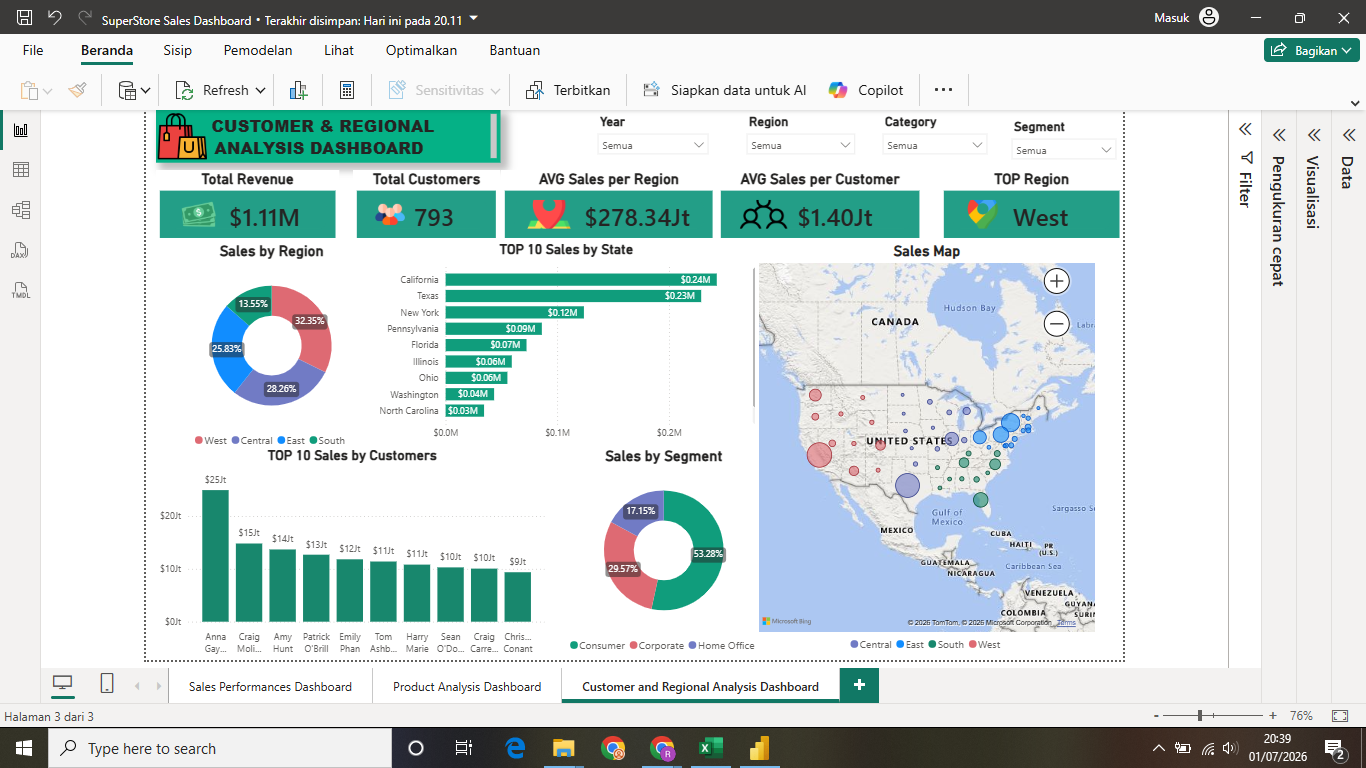

This screenshot's page, from the dashboard's own definition file:
{"tool":"powerbi","page":{"name":"Customer and Regional Analysis Dashboard","canvas":[1280,720],"ordinal":2},"visuals":[{"type":"textbox","box":[12.9,0,451.4,68.6],"z":0},{"type":"image","box":[13.4,0,68.9,68.9],"z":1000},{"type":"cardVisual","title":"Total Customers","fields":{"Data":["train2.Total Customers"]},"box":[271.4,78.6,192.9,94.3],"z":2000},{"type":"cardVisual","title":"Total Revenue","fields":{"Data":["train2.Total Sales"]},"box":[12.9,78.6,240,94.3],"z":3000},{"type":"cardVisual","title":"AVG Sales per Region","fields":{"Data":["train2.AVG Sales by Region"]},"box":[464.3,78.6,282.9,94.3],"z":4000},{"type":"cardVisual","title":"AVG Sales per Customer","fields":{"Data":["train2.AVG Sales Per Customer"]},"box":[747.1,78.6,270,94.3],"z":5000},{"type":"cardVisual","title":"TOP Region","fields":{"Data":["train2.TOP Region"]},"box":[1040,78.6,240,94.3],"z":6000},{"type":"slicer","fields":{"Values":["train2.Order Date.Variasi.Hierarki Tanggal.Tahun"]},"box":[580.9,0,165.5,72.6],"z":7000},{"type":"slicer","fields":{"Values":["train2.Region"]},"box":[776.8,0,162.1,72.6],"z":8000},{"type":"slicer","fields":{"Values":["train2.Segment"]},"box":[1123,6.8,157,72.6],"z":9000},{"type":"slicer","fields":{"Values":["train2.Category"]},"box":[954.1,0,157,72.6],"z":10000},{"type":"donutChart","title":"Sales by Region","fields":{"Category":["train2.Region"],"Y":["Sum(train2.Sales)"]},"box":[12.9,172.9,302.9,278.6],"z":11000},{"type":"pieChart","title":"Sales by Segment","fields":{"Category":["train2.Segment"],"Y":["Sum(train2.Sales)"]},"box":[526.6,440.6,303.1,278.1],"z":12000},{"type":"barChart","title":"TOP 10 Sales by State","fields":{"Category":["train2.State"],"Y":["Sum(train2.Sales)"]},"box":[293.8,171.9,514.1,268.8],"z":13000},{"type":"columnChart","title":"TOP 10 Sales by Customers","fields":{"Category":["train2.Customer Name"],"Y":["Sum(train2.Sales)"]},"box":[12.5,440.6,514.1,279.7],"z":14000},{"type":"map","title":"Sales Map","fields":{"Category":["train2.State"],"Size":["Sum(train2.Sales)"],"Series":["train2.Region"]},"box":[796.7,173.3,450,545],"z":15000}]}

Visuals, with their boxes on the page's 1280x720 design canvas (x1, y1, x2, y2). These are canvas units, not pixel positions in the 1366x768 screenshot, which may show the page scaled, cropped or inside an application window:
textbox: 13/0/464/69
image: 13/0/82/69
"Total Customers" cardVisual: 271/79/464/173
"Total Revenue" cardVisual: 13/79/253/173
"AVG Sales per Region" cardVisual: 464/79/747/173
"AVG Sales per Customer" cardVisual: 747/79/1017/173
"TOP Region" cardVisual: 1040/79/1280/173
slicer - train2.Order Date.Variasi.Hierarki Tanggal.Tahun: 581/0/746/73
slicer - train2.Region: 777/0/939/73
slicer - train2.Segment: 1123/7/1280/79
slicer - train2.Category: 954/0/1111/73
"Sales by Region" donutChart: 13/173/316/452
"Sales by Segment" pieChart: 527/441/830/719
"TOP 10 Sales by State" barChart: 294/172/808/441
"TOP 10 Sales by Customers" columnChart: 12/441/527/720
"Sales Map" map: 797/173/1247/718
